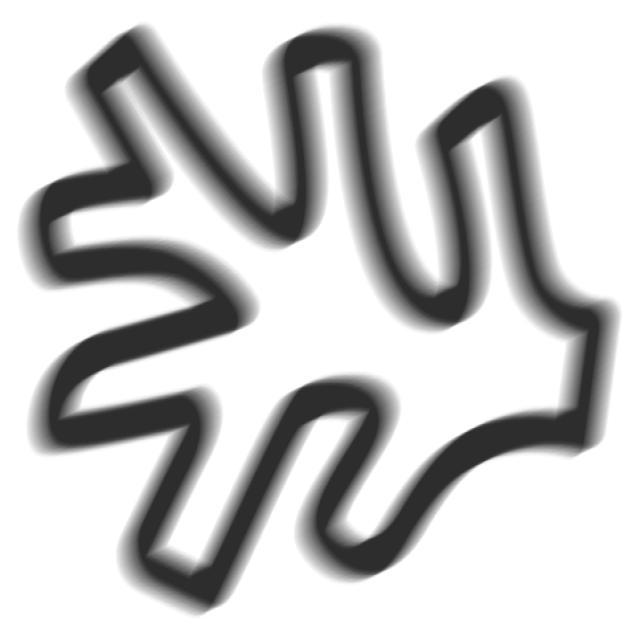coral: (15, 18, 629, 629)
